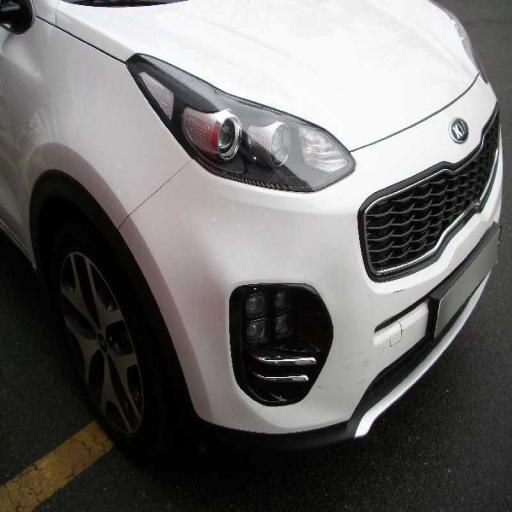scratch: (132, 35, 422, 401)
